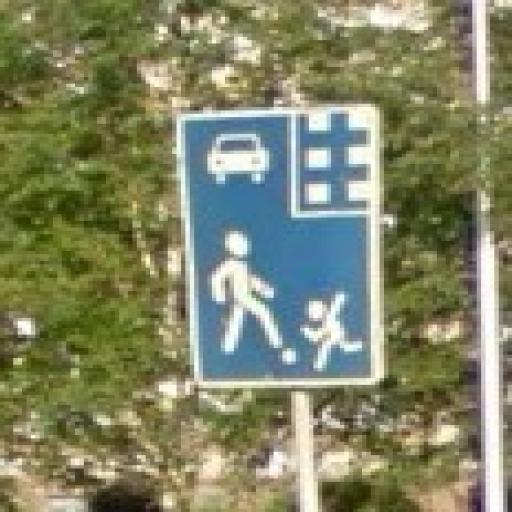traffic_sign: (178, 105, 385, 389)
